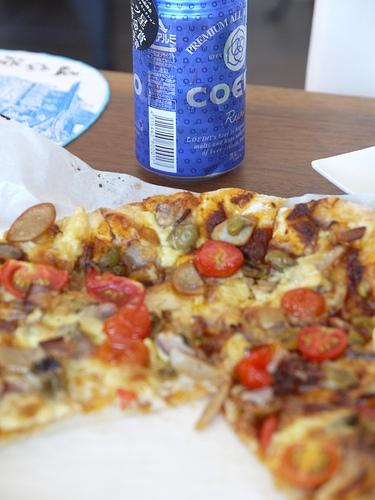tomato: (279, 440, 340, 491), (0, 258, 69, 299), (85, 267, 146, 307), (103, 302, 152, 342), (297, 324, 348, 361), (194, 241, 245, 278), (236, 344, 276, 390), (94, 336, 150, 368), (280, 288, 326, 317), (257, 414, 277, 454), (356, 395, 375, 423), (117, 388, 137, 410)
